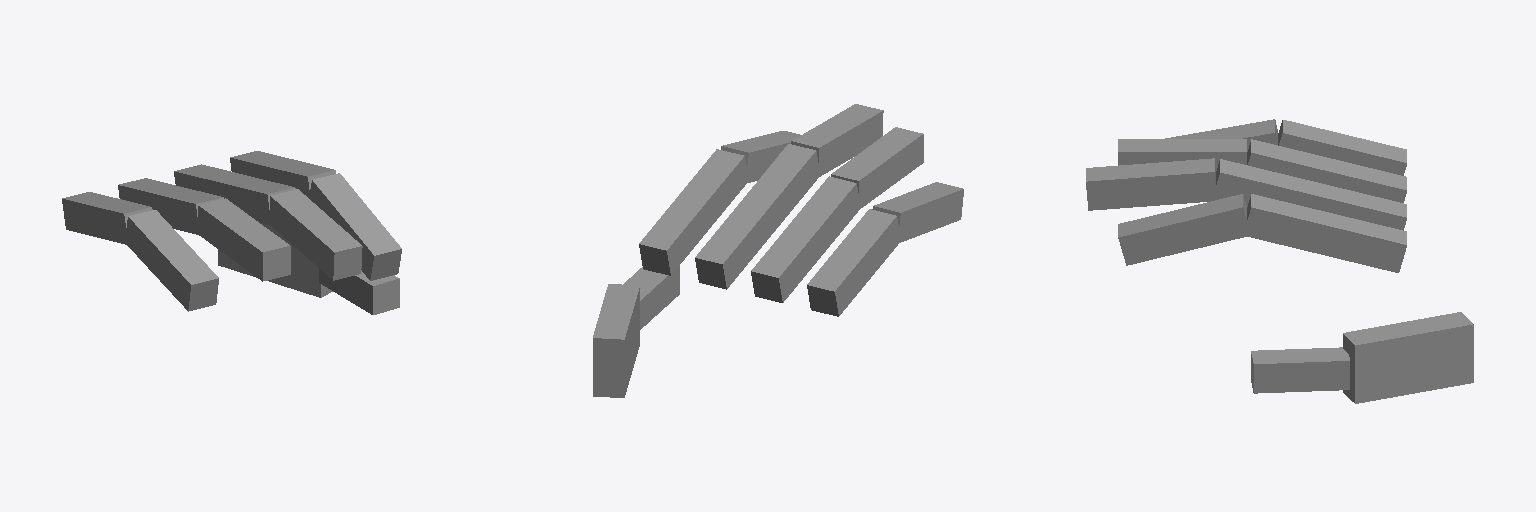
The model's file is powerFistFingersNormal.obj.
3 renders of one model, left to right at view 1: azimuth 30°, elevation 25°; view 2: azimuth 150°, elevation 25°; view 3: azimuth 270°, elevation 25°, orthographic.
Visible parts, largest first — view 1: pinky2_normal, middlefinger2_normal, ringfinger2_normal, index2_normal, middlefinger1_normal, pinky1_normal, ringfinger1_normal, index1_normal, thumb2_normal, thumb1_normal; view 2: middlefinger1_normal, ringfinger1_normal, index1_normal, pinky1_normal, thumb1_normal, ringfinger2_normal, middlefinger2_normal, pinky2_normal, thumb2_normal, index2_normal; view 3: thumb1_normal, index1_normal, middlefinger2_normal, index2_normal, middlefinger1_normal, ringfinger1_normal, thumb2_normal, pinky1_normal, ringfinger2_normal, pinky2_normal.
Boxes of the visible parts, <box> form: pinky2_normal: <box>125,210,218,311</box>; middlefinger2_normal: <box>269,189,362,280</box>; ringfinger2_normal: <box>198,198,290,281</box>; index2_normal: <box>310,173,401,280</box>; middlefinger1_normal: <box>174,164,295,224</box>; pinky1_normal: <box>62,192,152,244</box>; ringfinger1_normal: <box>118,178,223,234</box>; index1_normal: <box>230,151,335,199</box>; thumb2_normal: <box>319,269,399,314</box>; thumb1_normal: <box>218,223,332,297</box>; middlefinger1_normal: <box>695,144,820,289</box>; ringfinger1_normal: <box>751,176,860,302</box>; index1_normal: <box>639,149,746,275</box>; pinky1_normal: <box>807,209,900,316</box>; thumb1_normal: <box>593,284,639,397</box>; ringfinger2_normal: <box>831,127,923,207</box>; middlefinger2_normal: <box>791,104,883,177</box>; pinky2_normal: <box>872,182,963,242</box>; thumb2_normal: <box>623,266,679,329</box>; index2_normal: <box>721,131,800,183</box>; thumb1_normal: <box>1343,312,1473,403</box>; index1_normal: <box>1243,194,1406,272</box>; middlefinger2_normal: <box>1086,158,1216,210</box>; index2_normal: <box>1118,194,1250,265</box>; middlefinger1_normal: <box>1216,159,1406,230</box>; ringfinger1_normal: <box>1247,139,1406,202</box>; thumb2_normal: <box>1251,347,1349,393</box>; pinky1_normal: <box>1278,120,1406,175</box>; ringfinger2_normal: <box>1118,139,1246,170</box>; pinky2_normal: <box>1165,119,1277,151</box>.
Bounding box in the file's own units: 0.5827 × 0.3782 × 0.7512.